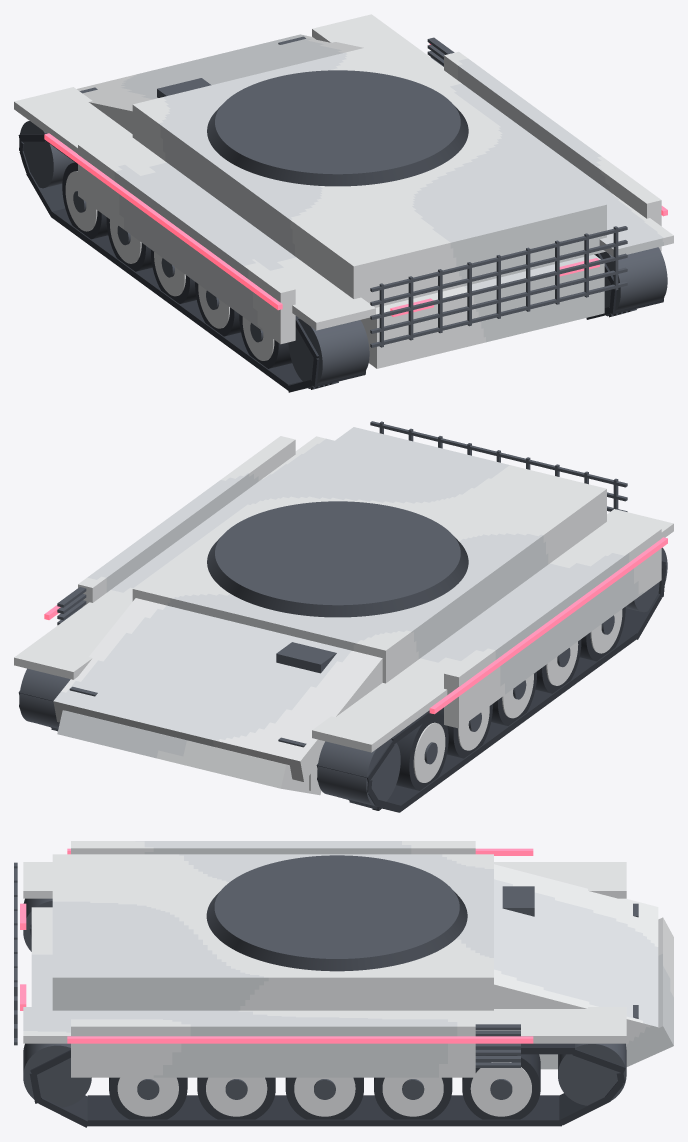
The model's file is Beast_hull.glb.
3 views of the same model, one above another, from view 1: azimuth 30°, elevation 25°; view 2: azimuth 150°, elevation 25°; view 3: azimuth 270°, elevation 25° (orthographic).
Parts seen in each view (by area): view 1: Beast_Hull; view 2: Beast_Hull; view 3: Beast_Hull.
Part boxes in pixels (left/top/right/bottom): Beast_Hull: left=14, top=14, right=673, bottom=392; Beast_Hull: left=14, top=421, right=673, bottom=812; Beast_Hull: left=14, top=841, right=673, bottom=1127.
Size of the model in its own units: 3.66 by 1.25 by 5.38.
